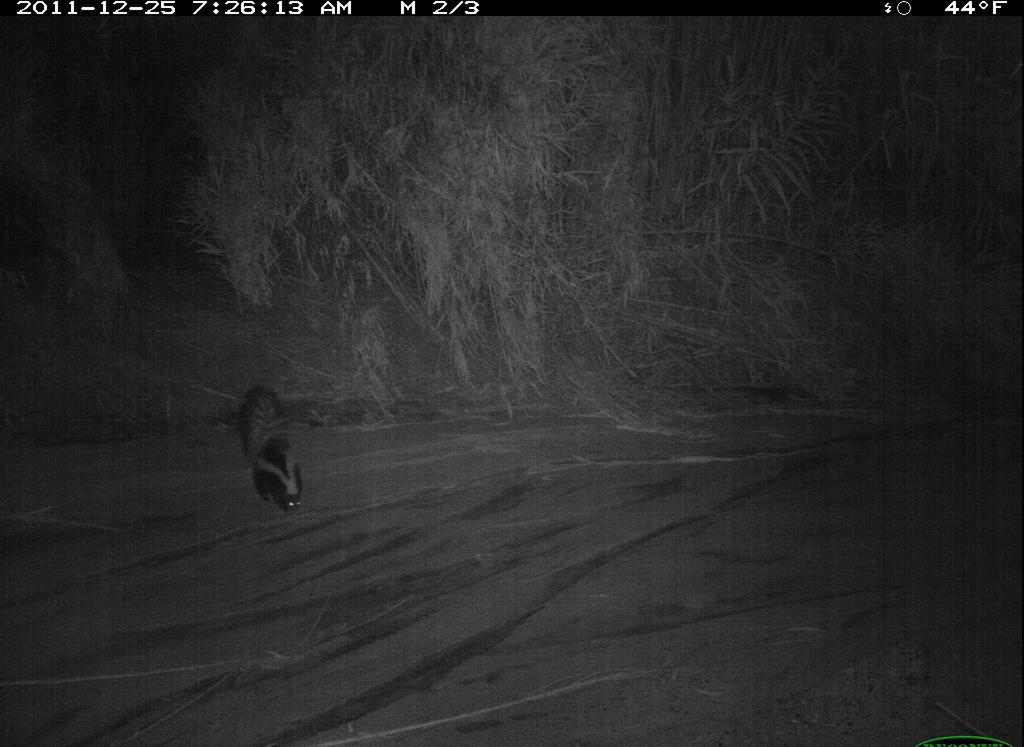skunk: (230, 382, 327, 528)
